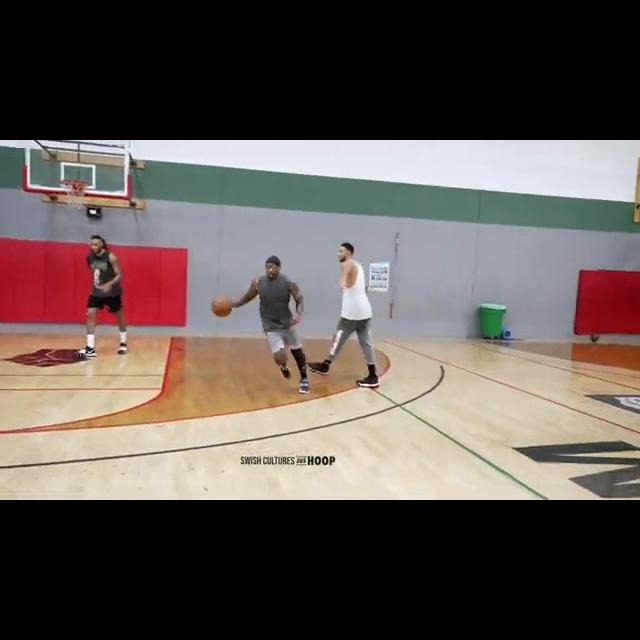basketball: (211, 295, 234, 317)
